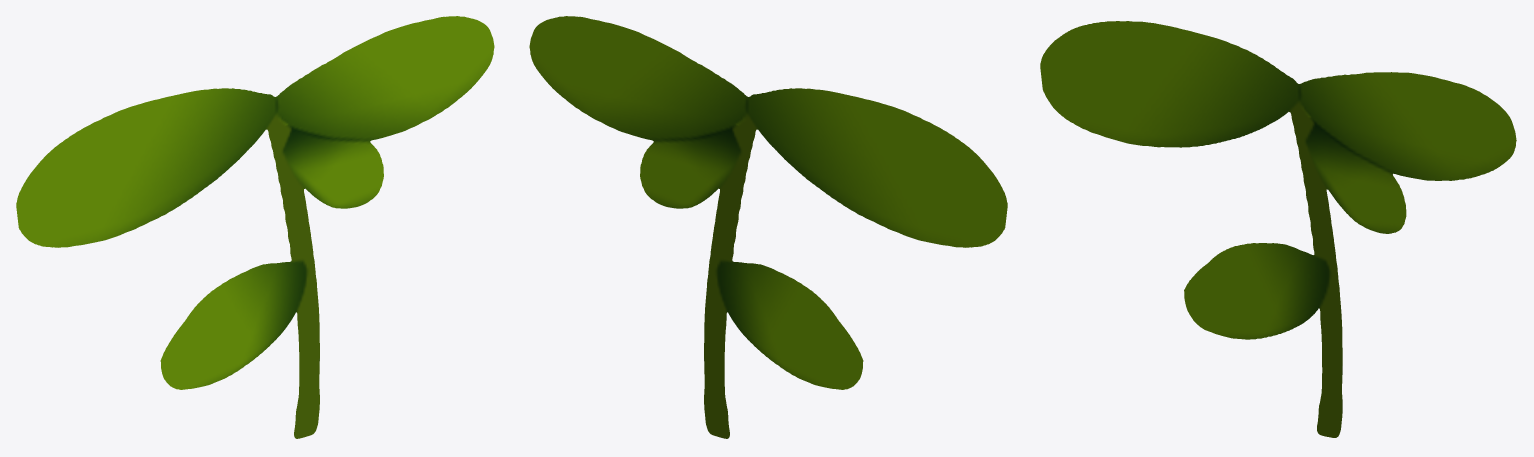
File: plant_01.fbx
3 views of the same model, side by side, from view 1: azimuth 30°, elevation 25°; view 2: azimuth 150°, elevation 25°; view 3: azimuth 330°, elevation 25° (orthographic).
Visible parts, largest first — view 1: plant_0; view 2: plant_0; view 3: plant_0.
Boxes of the visible parts, x1,y1,x2,y2 form: plant_0: (16,16,494,438); plant_0: (529,16,1007,438); plant_0: (1040,21,1516,437).
Bounding box in the file's own units: 0.6351 × 0.492 × 0.
